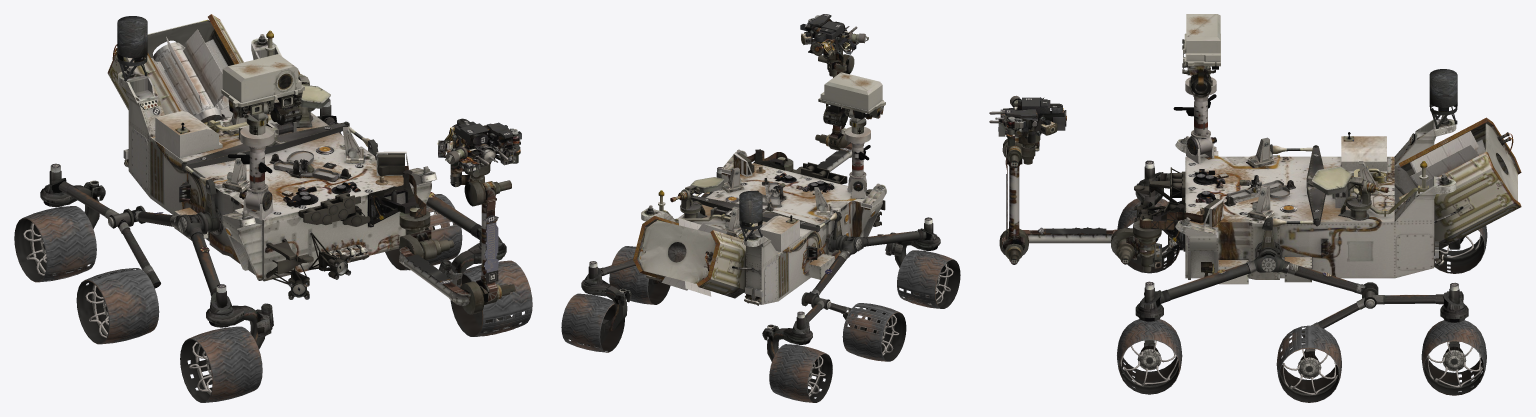
File: curiosity.glb
3 views of the same model, side by side, from view 1: azimuth 30°, elevation 25°; view 2: azimuth 150°, elevation 25°; view 3: azimuth 270°, elevation 25° (orthographic). The views are drawn at different scales.
Visible parts, largest first — view 1: MSL; view 2: MSL; view 3: MSL.
Part boxes in pixels (x1=…): MSL: x1=14, y1=14, x2=532, y2=402; MSL: x1=561, y1=14, x2=960, y2=402; MSL: x1=989, y1=14, x2=1521, y2=402.
Size of the model in its own units: 2.78 by 2.22 by 3.94.
Materials: 9 (8 with a texture image).
